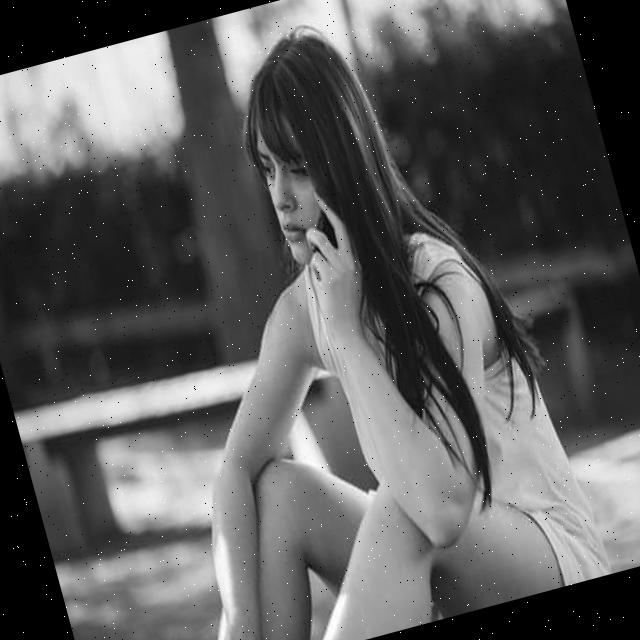Sadness: (252, 116, 332, 268)
